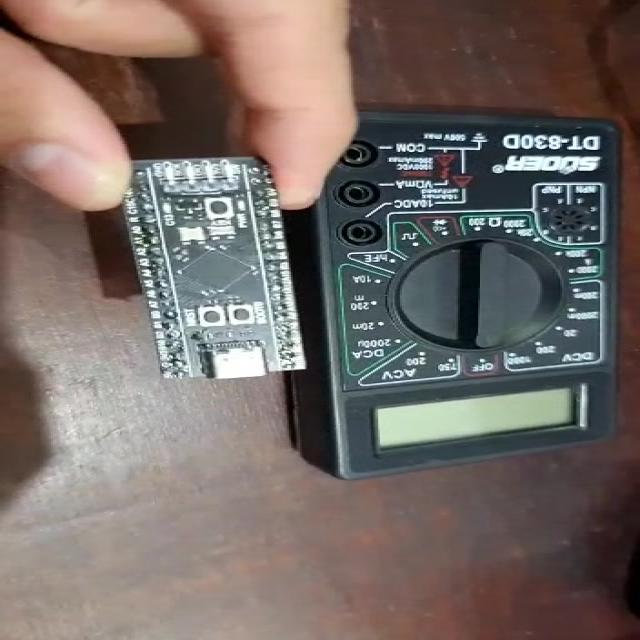multimeter: (338, 110, 640, 446)
stm32: (132, 160, 295, 388)
